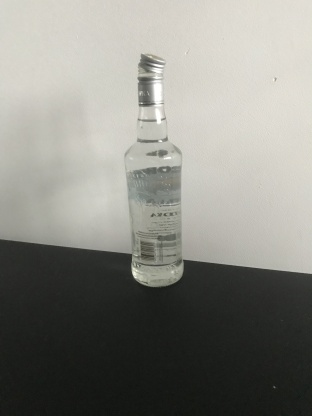nakretka: (135, 51, 167, 108)
